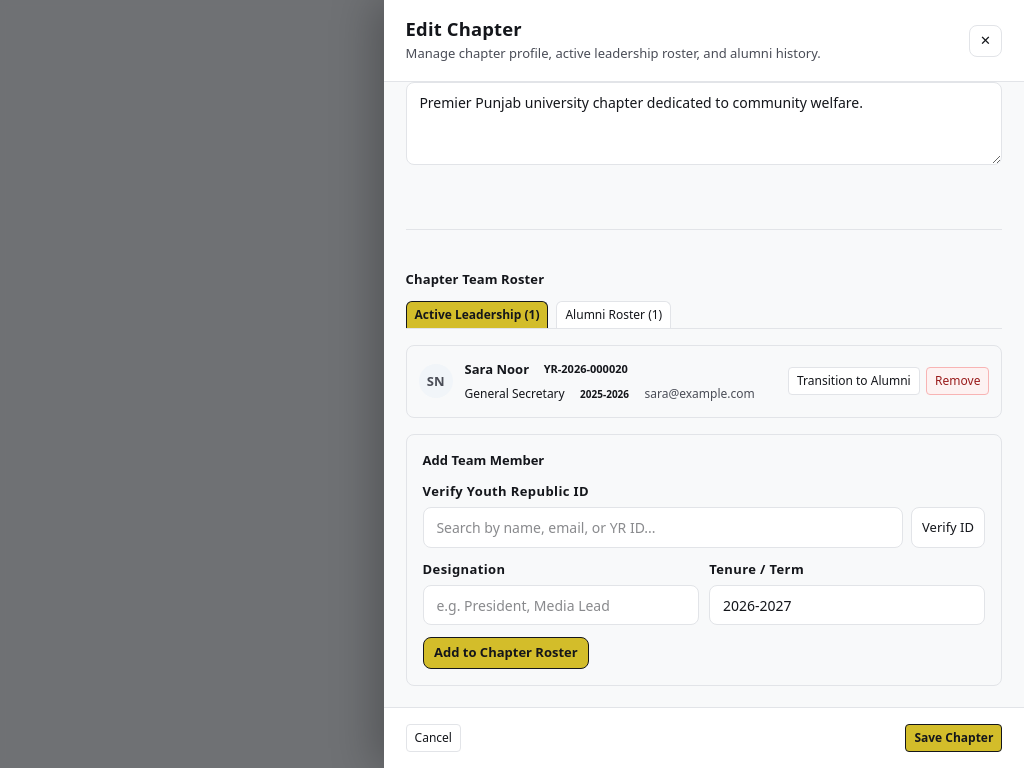
Test: EditChapterDrawer › renders matching volunteer cards with avatars/initials and ID badges in autocomplete dropdown
(page scrolled)
Type "Abbasi" into the field labelled "Verify Youth Republic ID" at [663, 527], box [423, 507, 903, 548]
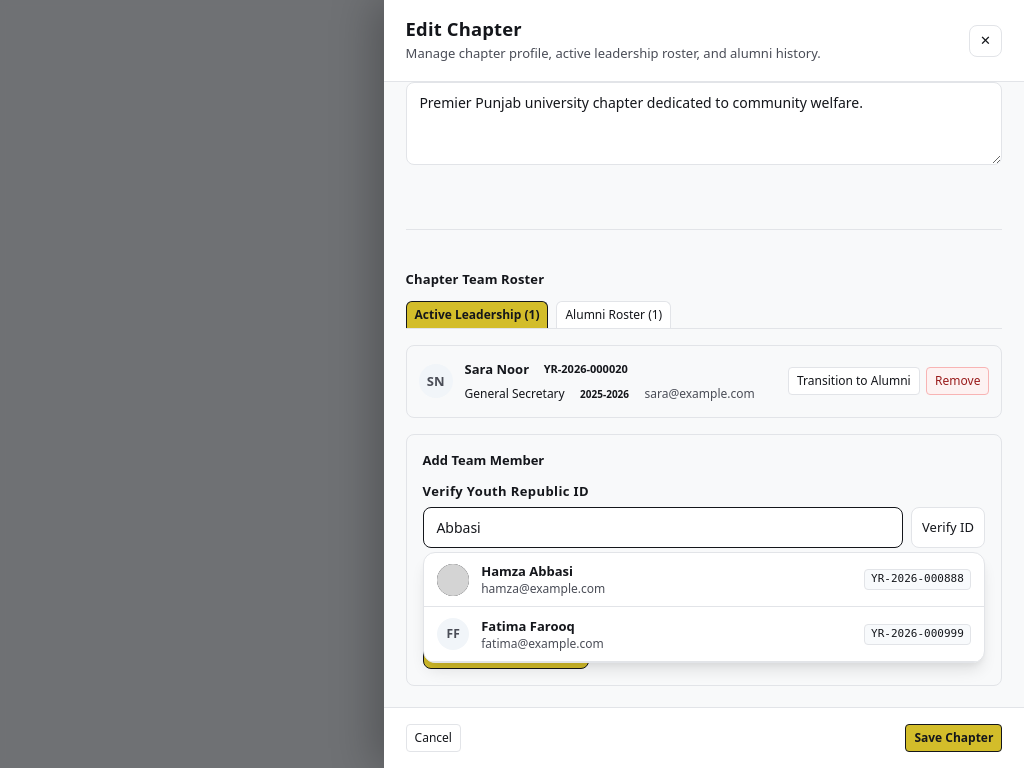
Expected: the list is shown, [423, 552, 985, 663]
Expected: the text "Hamza Abbasi" is shown, [481, 562, 573, 580]
Expected: the text "YR-2026-000888" is shown, [864, 569, 971, 590]
